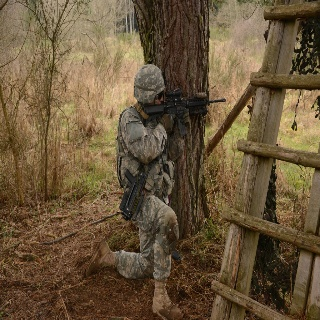rifle: (143, 87, 228, 137)
